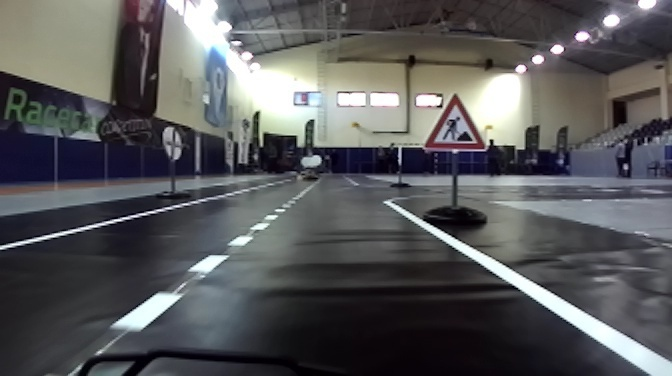yol_yapimi: (425, 91, 489, 159)
